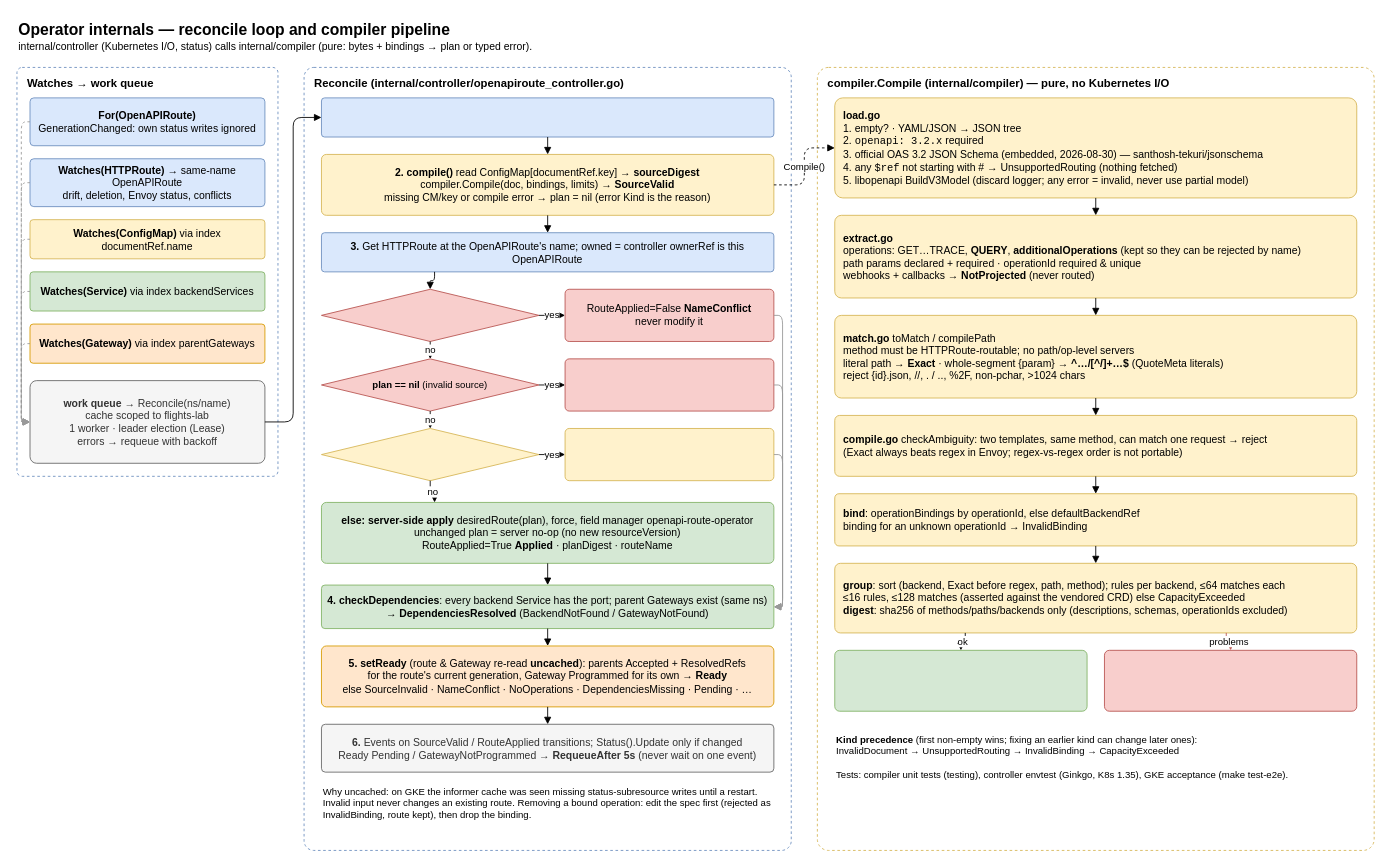
This 1389x866 diagram has some shape labels left out. Here are the shapes that lost their labels. From the top down, the centre of each, then its label:
pixel 547 117: 1. Get OpenAPIRoute uncached (APIReader) · gone → done (route GC via ownerRef)
pixel 430 314: exists and not owned
pixel 669 384: RouteApplied=False NotApplied keep existing route; create none
pixel 430 454: plan empty
pixel 669 454: delete owned route RouteApplied=True NoOperations
pixel 960 680: Plan Rules[] · NotProjected[] · Digest empty plan = no route, never catch-all
pixel 1230 680: *Error{Kind, Problems[]} all problems of the most fundamental Kind
